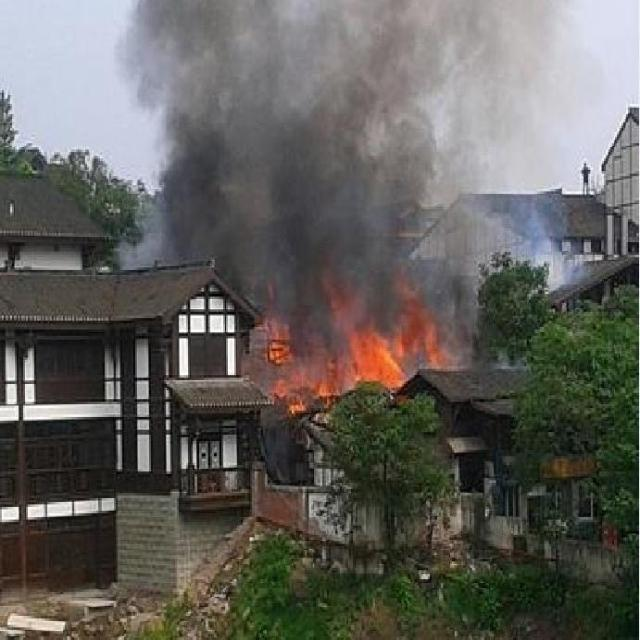fire: (260, 276, 452, 409)
smoke: (127, 2, 565, 344)
